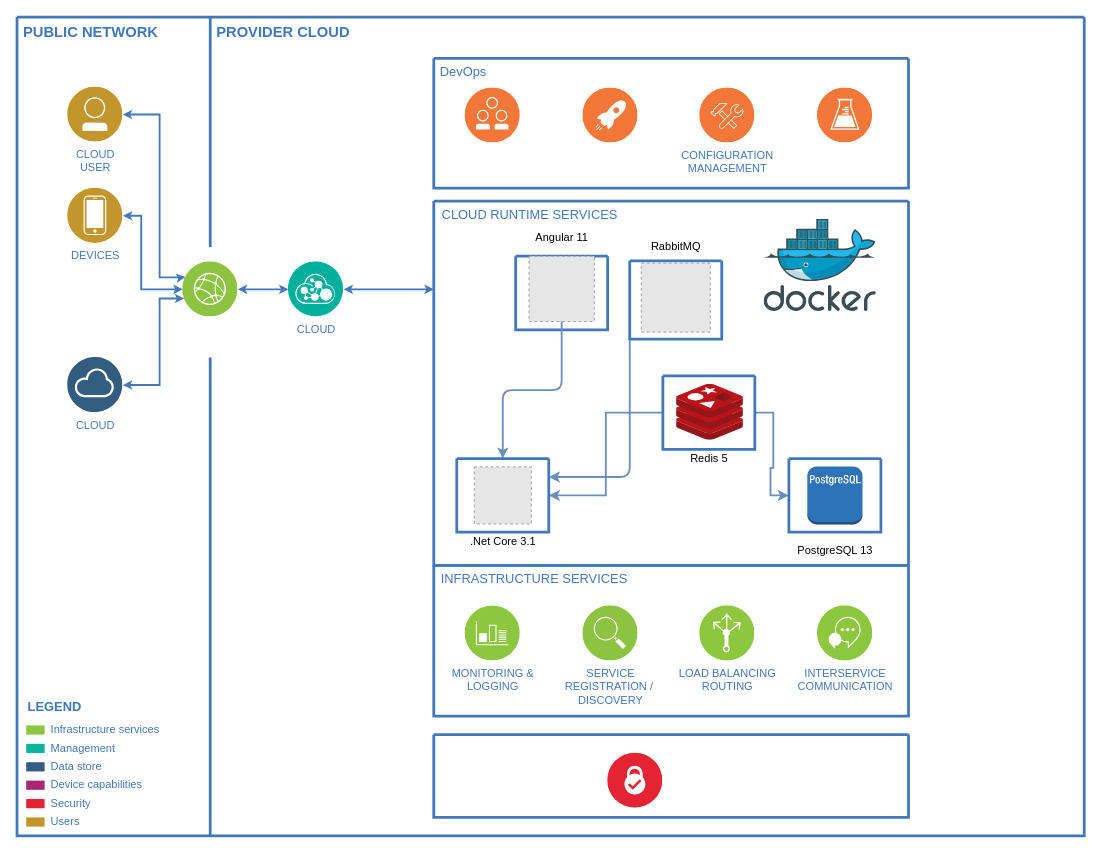
This 1101x853 diagram has some shape labels left out. Grey dashed boxes stand in for pictures. Each missing label, with the centre of its shape:
"CLOUD SECURITY" belongs at pixel 634 780.
"COLLABORATIVE DEVELOPMENT" belongs at pixel 492 115.
"CONTINUOUS DEPLOY" belongs at pixel 610 115.
"CONTINUOUS TESTING" belongs at pixel 844 115.
"EDGE SERVICES" belongs at pixel 209 288.
